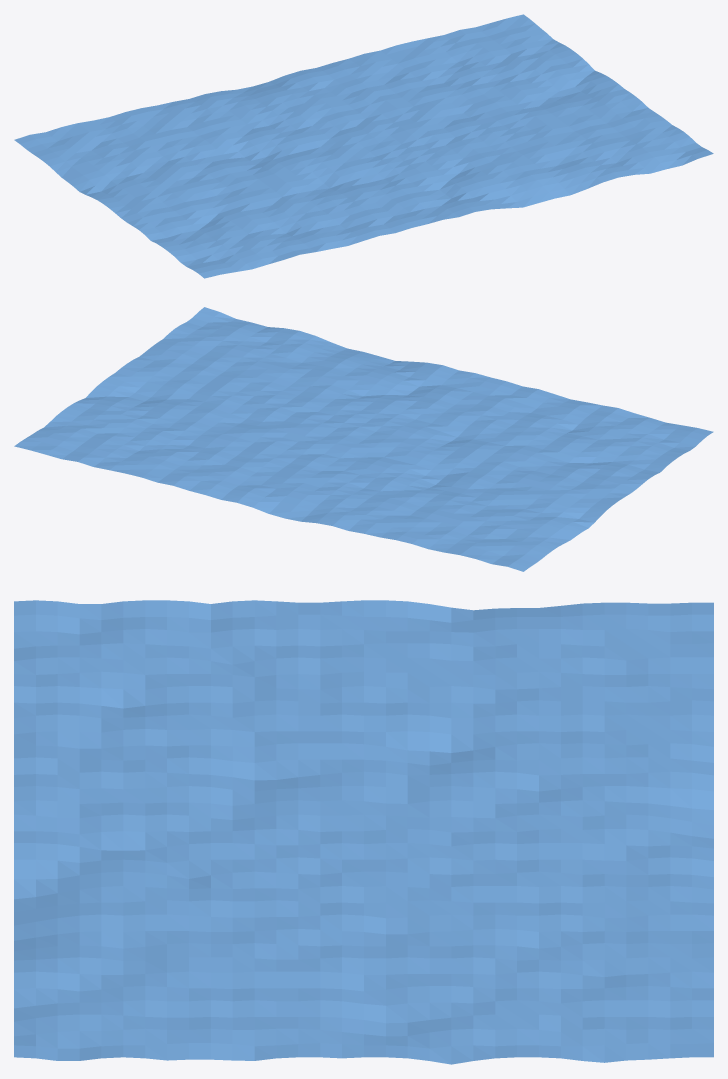
File: testland_water.fbx
3 renders of one model, top to bottom at view 1: azimuth 30°, elevation 25°; view 2: azimuth 150°, elevation 25°; view 3: azimuth 270°, elevation 25°, orthographic. The views are drawn at different scales.
Visible parts, largest first — view 1: 평면.001; view 2: 평면.001; view 3: 평면.001.
Part boxes in pixels (x1,y1,x2,y2): 평면.001: (14,14,713,278); 평면.001: (14,307,713,571); 평면.001: (14,600,713,1064).
Bounding box in the file's own units: 1575 × 21.47 × 1020.
